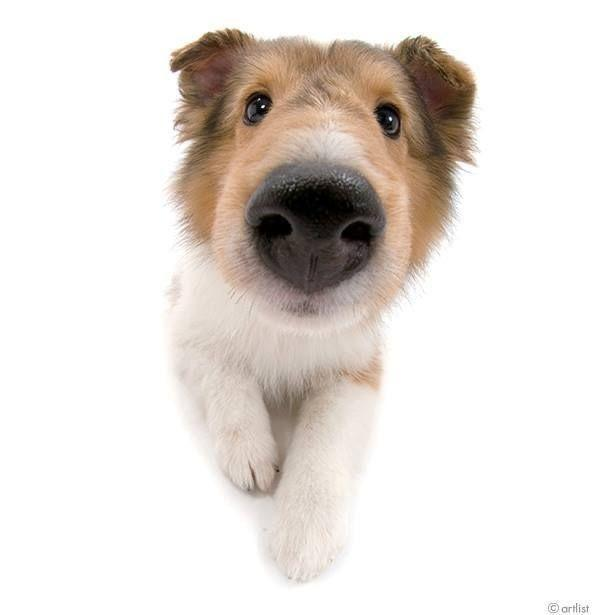puppy-dog: (164, 28, 481, 583)
